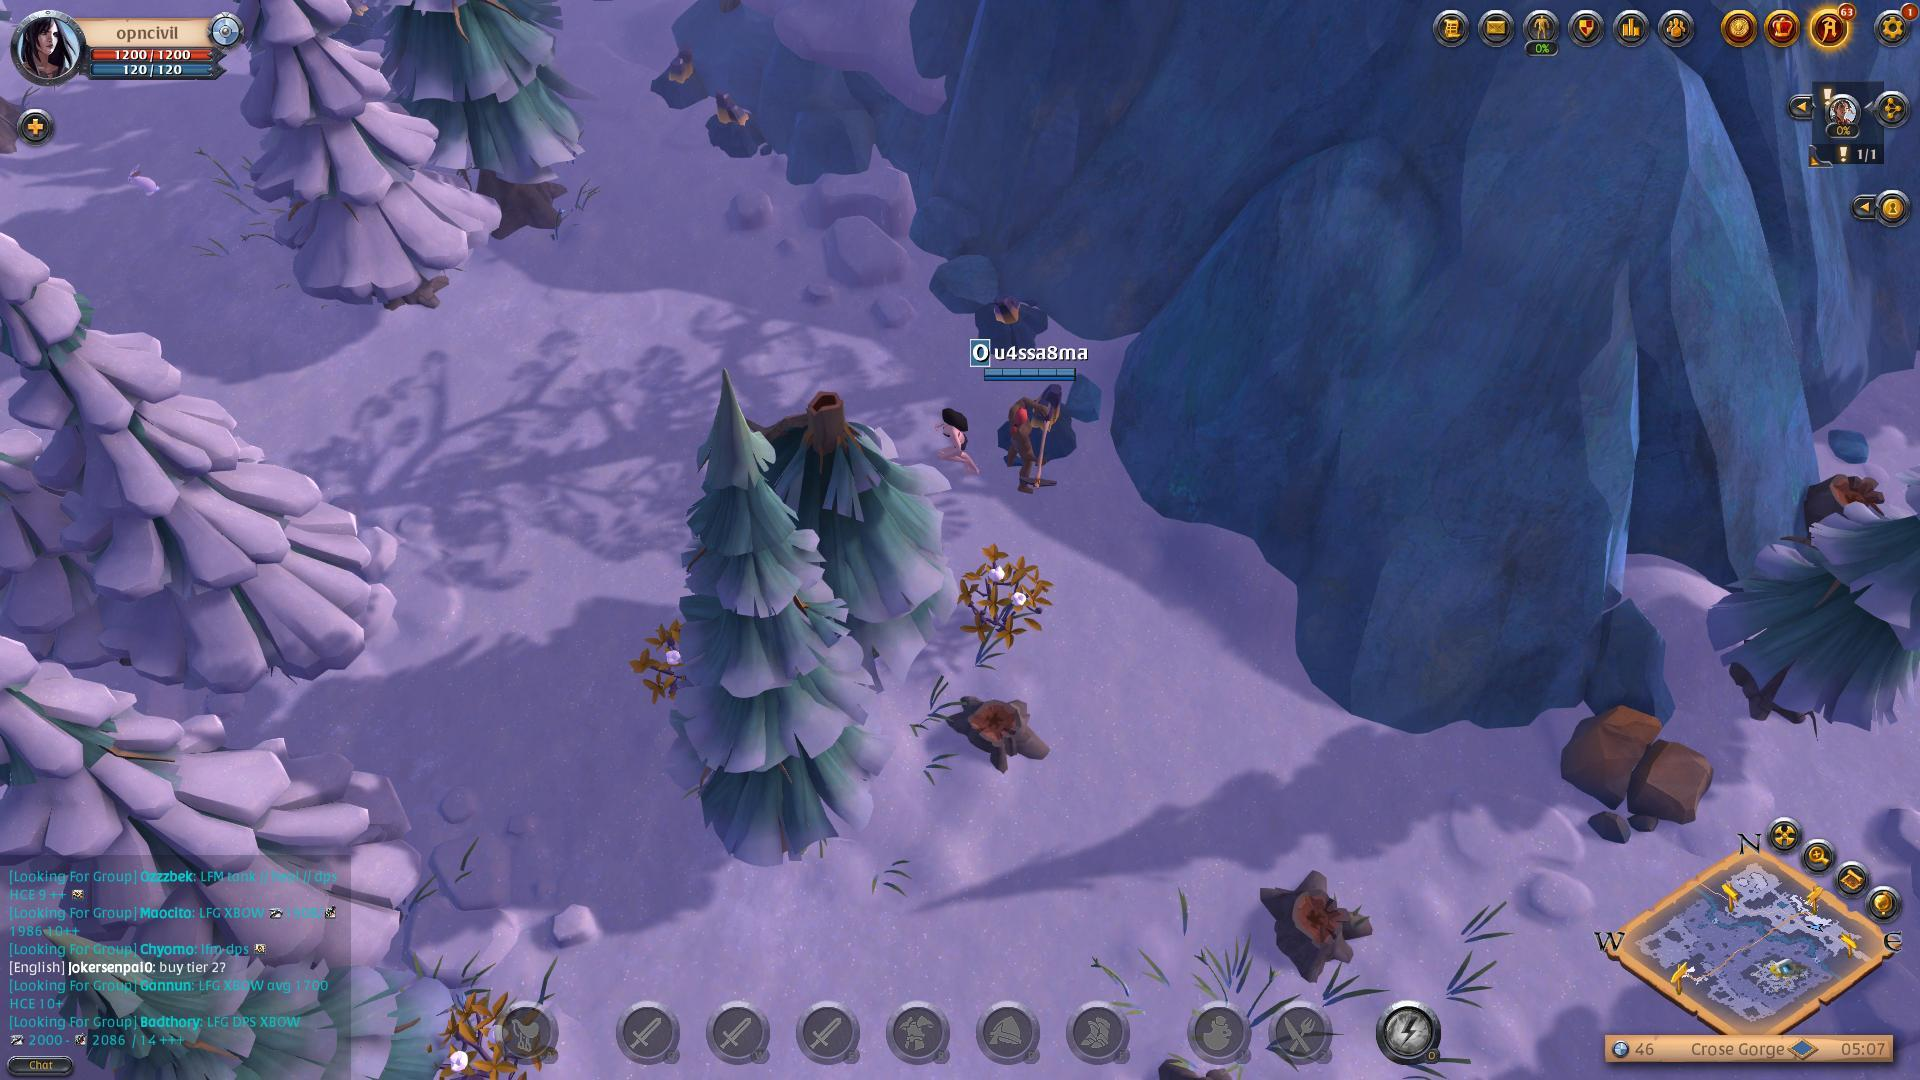copper_ore: (703, 82, 774, 166), (650, 47, 708, 108)
cotton: (418, 1001, 574, 1080), (940, 550, 1084, 624), (629, 605, 684, 707)
limestone: (1539, 712, 1721, 833)
